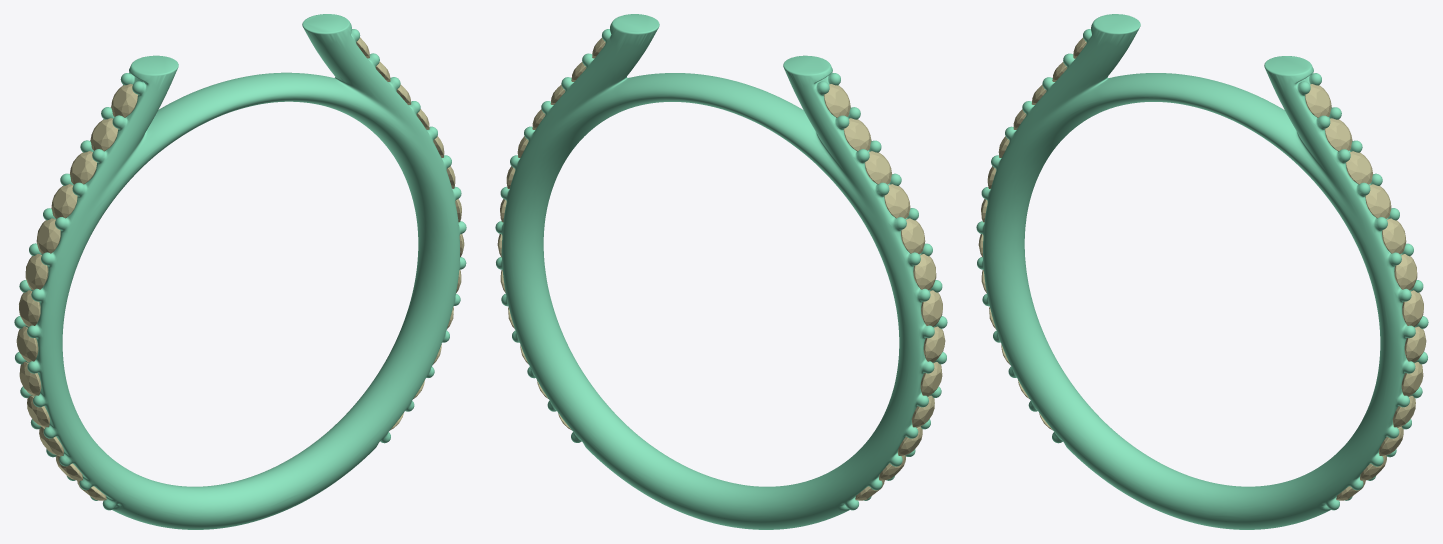
3 renders of one model, left to right at view 1: azimuth 30°, elevation 25°; view 2: azimuth 150°, elevation 25°; view 3: azimuth 330°, elevation 25°, orthographic.
Visible parts, largest first — view 1: Metal02, Diamond_Gem.004, Diamond_Gem.005, Diamond_Gem.002, Diamond_Gem.003, Diamond_Gem.006, Diamond_Gem.007, Diamond_Gem.001, Diamond_Gem; view 2: Metal02, Diamond_Gem.004, Diamond_Gem.005, Diamond_Gem.002, Diamond_Gem.003, Diamond_Gem.006, Diamond_Gem.007, Diamond_Gem.001, Diamond_Gem; view 3: Metal02, Diamond_Gem.021, Diamond_Gem.020, Diamond_Gem.023, Diamond_Gem.022, Diamond_Gem.019, Diamond_Gem.018, Diamond_Gem.024, Diamond_Gem.025.
Boxes of the visible parts, x1,y1,x2,y2 form: Metal02: (14, 14, 466, 529); Diamond_Gem.004: (70, 151, 97, 184); Diamond_Gem.005: (51, 184, 77, 218); Diamond_Gem.002: (90, 118, 118, 151); Diamond_Gem.003: (111, 84, 137, 117); Diamond_Gem.006: (36, 218, 60, 254); Diamond_Gem.007: (25, 254, 48, 290); Diamond_Gem.001: (19, 290, 40, 326); Diamond_Gem: (16, 326, 38, 362); Metal02: (495, 14, 947, 529); Diamond_Gem.004: (864, 151, 891, 184); Diamond_Gem.005: (884, 184, 910, 218); Diamond_Gem.002: (843, 118, 871, 151); Diamond_Gem.003: (824, 84, 850, 117); Diamond_Gem.006: (901, 218, 925, 254); Diamond_Gem.007: (913, 254, 936, 290); Diamond_Gem.001: (921, 290, 942, 326); Diamond_Gem: (923, 326, 945, 362); Metal02: (976, 14, 1428, 529); Diamond_Gem.021: (1345, 151, 1372, 184); Diamond_Gem.020: (1365, 184, 1391, 218); Diamond_Gem.023: (1324, 118, 1352, 151); Diamond_Gem.022: (1305, 84, 1331, 117); Diamond_Gem.019: (1382, 218, 1406, 254); Diamond_Gem.018: (1394, 254, 1417, 290); Diamond_Gem.024: (1402, 290, 1423, 326); Diamond_Gem.025: (1404, 326, 1426, 362).
Size of the model in its own units: 20.92 by 21.82 by 1.99.
